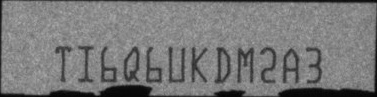2: (258, 44, 278, 84)
3: (303, 44, 322, 84)
6: (100, 45, 118, 83), (145, 46, 162, 83)
A: (283, 46, 300, 85)
D: (214, 46, 232, 84)
I: (76, 43, 95, 83)
K: (190, 44, 208, 84)
M: (237, 46, 255, 84)
Q: (122, 44, 141, 83)
T: (54, 45, 73, 83)
U: (168, 46, 187, 84)
